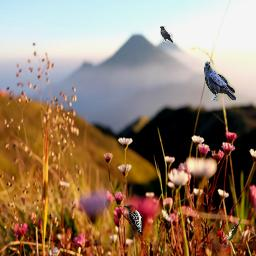Crow: (204, 61, 236, 101), (160, 26, 173, 43)
Cuckoo: (226, 217, 242, 241)
Woodpecker: (124, 205, 143, 235)
